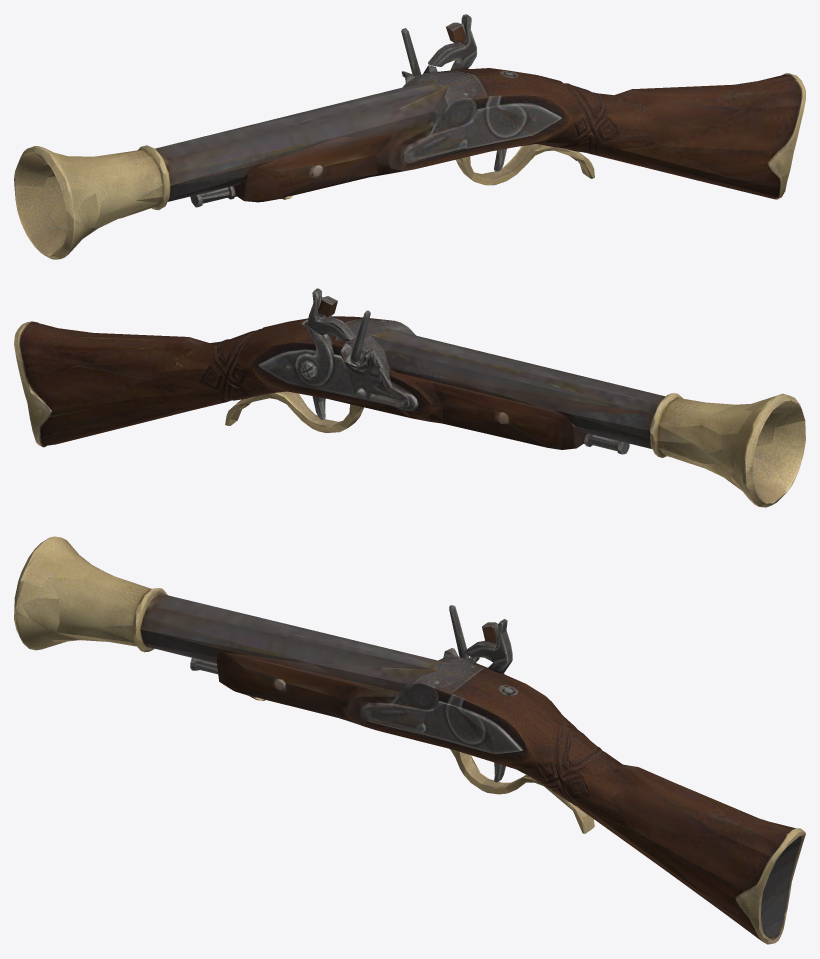
Rendered from blunderbuss.glb.
The picture shows the model from 3 angles, top to bottom: view 1: azimuth 30°, elevation 25°; view 2: azimuth 150°, elevation 25°; view 3: azimuth 330°, elevation 25°; orthographic projection.
Size of the model in its own units: 1.9 by 0.5742 by 0.2532.
1 material, 1 textured.
